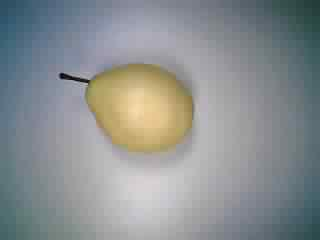pear: (51, 46, 207, 167)
